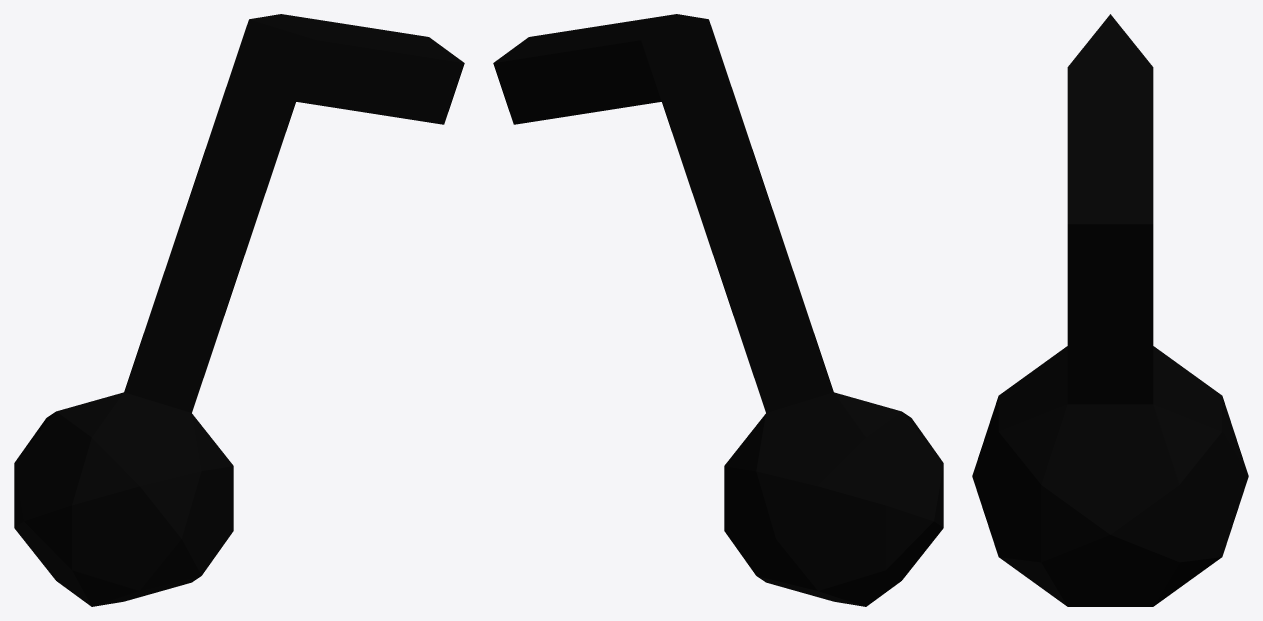
The model's file is A_MusicNote.FBX.
3 renders of one model, left to right at view 1: azimuth 30°, elevation 25°; view 2: azimuth 150°, elevation 25°; view 3: azimuth 270°, elevation 25°, orthographic. The views are drawn at different scales.
Parts seen in each view (by area): view 1: A_MusicNote; view 2: A_MusicNote; view 3: A_MusicNote.
Boxes of the visible parts, <box> form: A_MusicNote: <box>14,14,464,606</box>; A_MusicNote: <box>493,14,943,606</box>; A_MusicNote: <box>972,14,1248,606</box>.
Bounding box in the file's own units: 134 × 167 × 63.25.
1 material, 1 textured.
